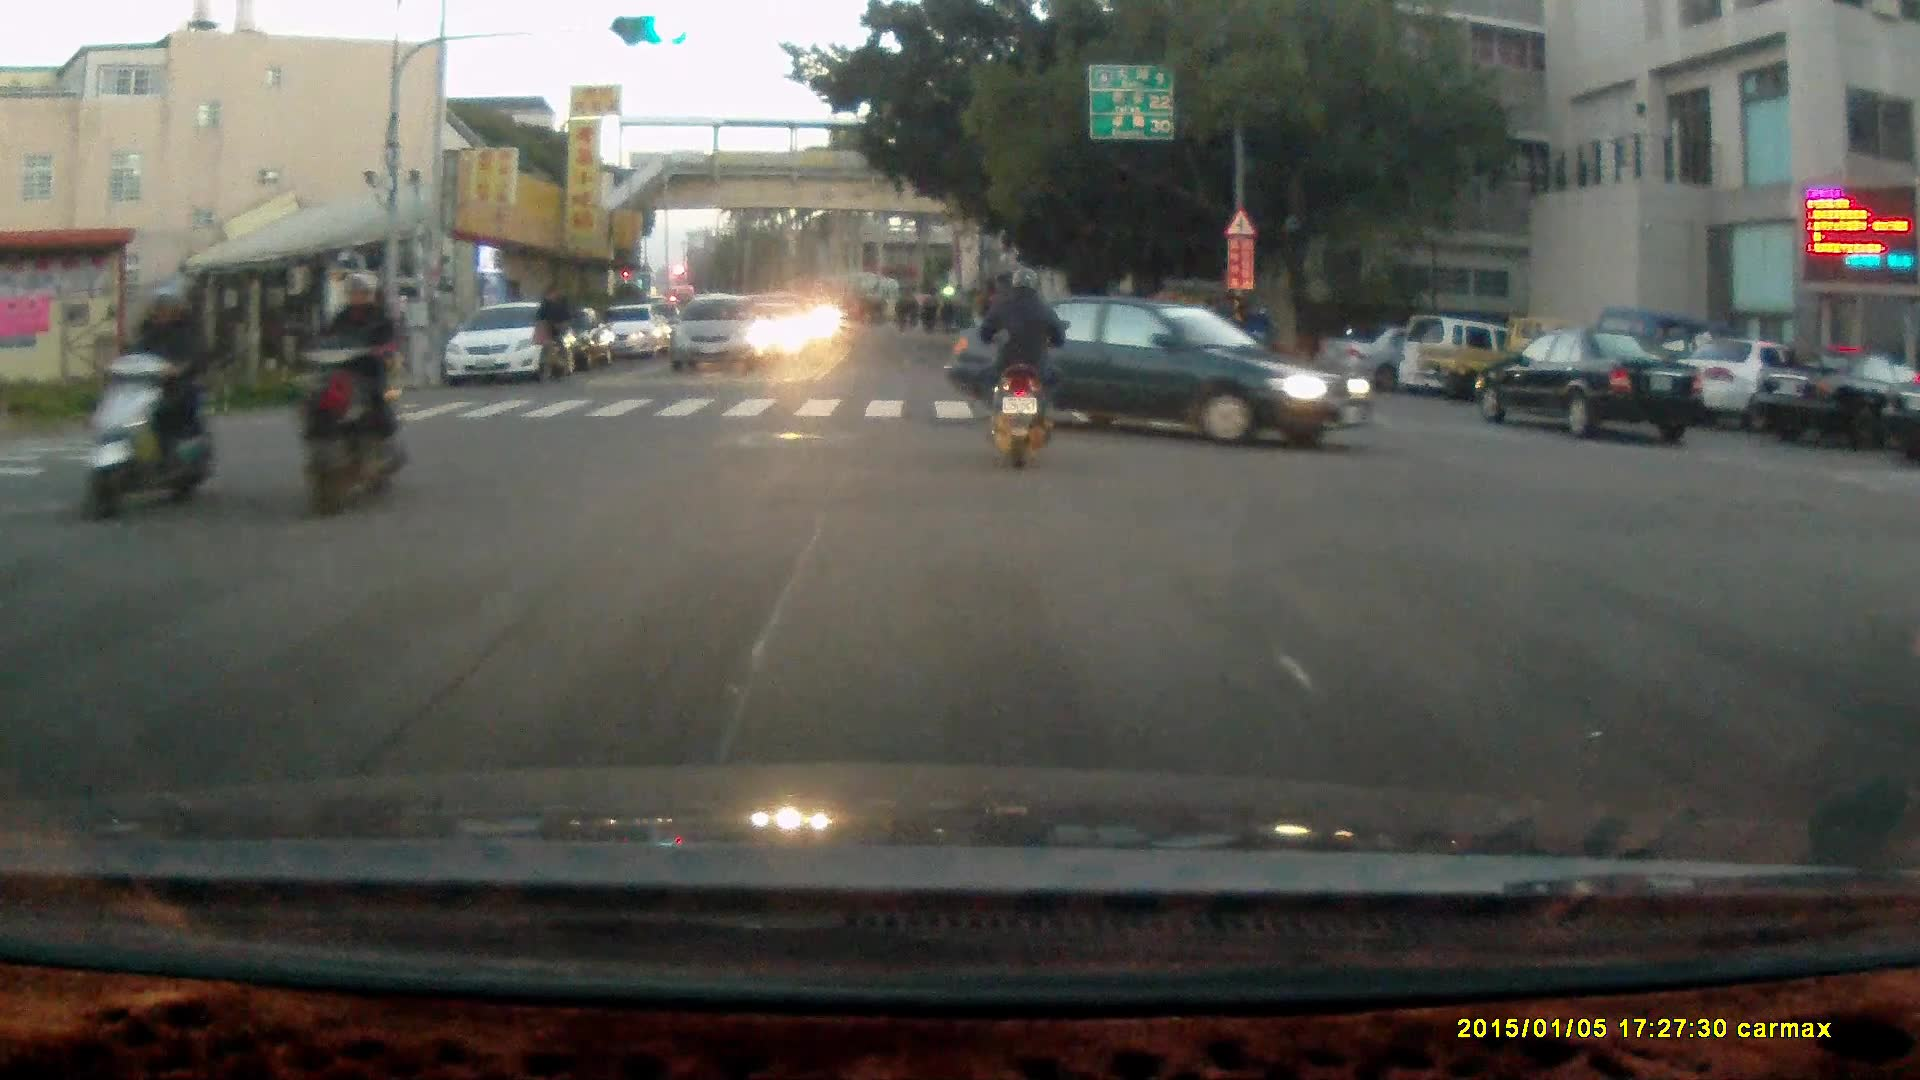rider: (82, 273, 219, 523), (288, 265, 412, 523), (976, 264, 1068, 465), (531, 281, 572, 382), (1233, 302, 1280, 375)
vehicle: (935, 289, 1373, 453), (1474, 331, 1708, 440), (1409, 314, 1624, 405), (1658, 334, 1848, 435), (1757, 351, 1920, 452), (444, 293, 578, 379), (1315, 314, 1503, 372), (669, 295, 772, 374)
